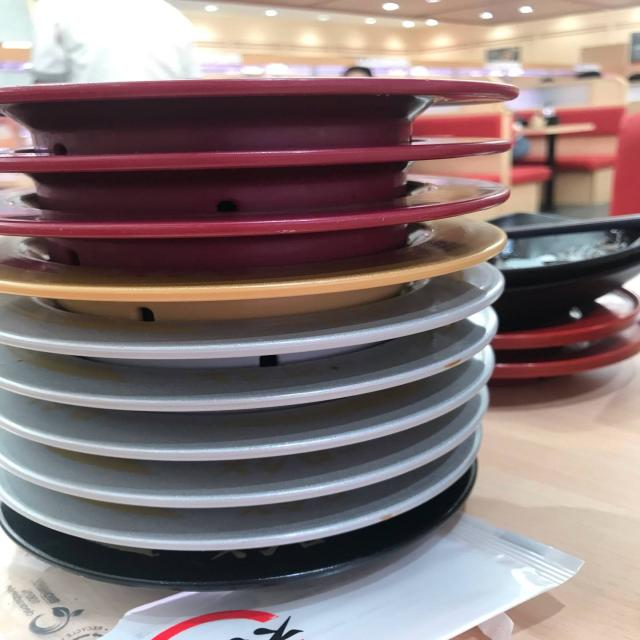janback: (3, 539, 440, 610)
jangold: (25, 250, 470, 330)
janred: (0, 66, 493, 127), (0, 129, 517, 187), (0, 194, 498, 238), (490, 312, 640, 348), (486, 357, 640, 378)
janwoven: (0, 309, 468, 365), (0, 372, 483, 413), (25, 466, 428, 510), (6, 422, 403, 461), (12, 506, 443, 540)
